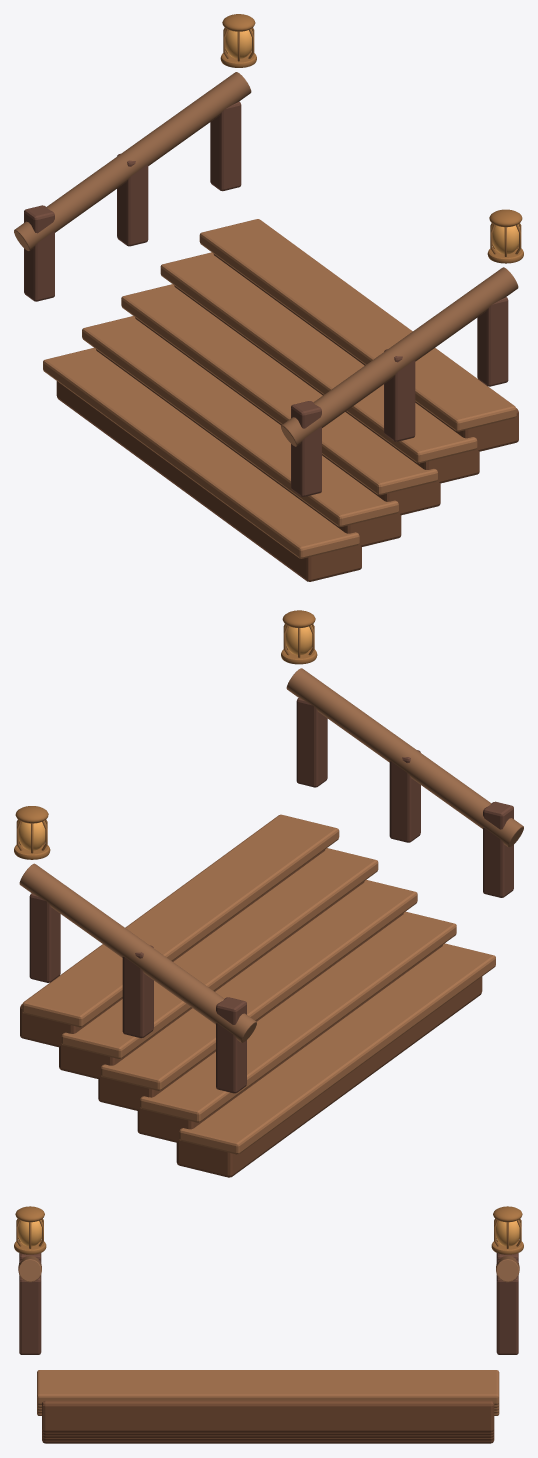
File: SM_Hub_EntrySteps.fbx
3 renders of one model, top to bottom at view 1: azimuth 30°, elevation 25°; view 2: azimuth 150°, elevation 25°; view 3: azimuth 270°, elevation 25°, orthographic. The views are drawn at different scales.
Parts seen in each view (by area): view 1: Wide entry riser.005_Baked; view 2: Wide entry riser.005_Baked; view 3: Wide entry riser.005_Baked.
Boxes of the visible parts, left/top/right/bottom form: Wide entry riser.005_Baked: left=14, top=14, right=523, bottom=581; Wide entry riser.005_Baked: left=14, top=610, right=523, bottom=1177; Wide entry riser.005_Baked: left=14, top=1206, right=523, bottom=1443.
Size of the model in its own units: 149 by 302 by 193.
